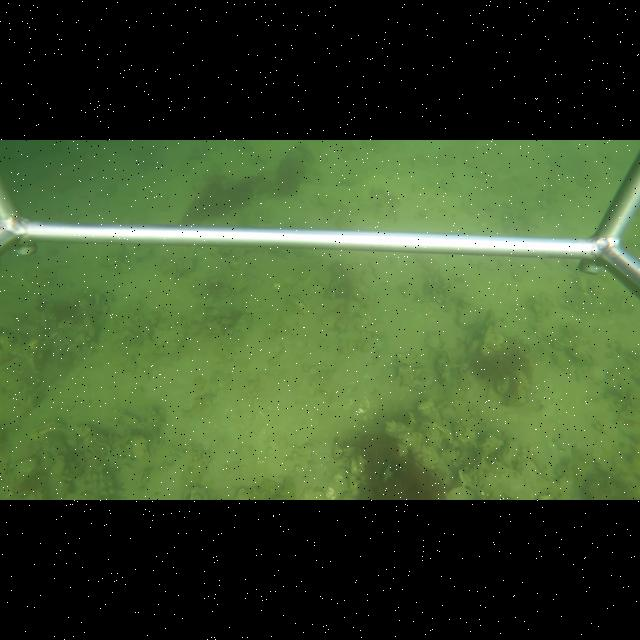Oyster-Open: (285, 292, 310, 315)
